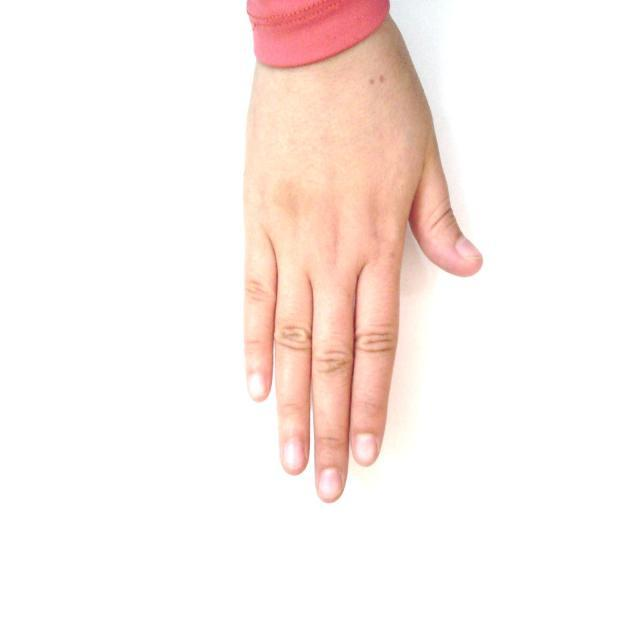Fingernail: (354, 434, 377, 464), (319, 469, 341, 500), (457, 238, 482, 260), (285, 441, 303, 470), (250, 376, 264, 398)
